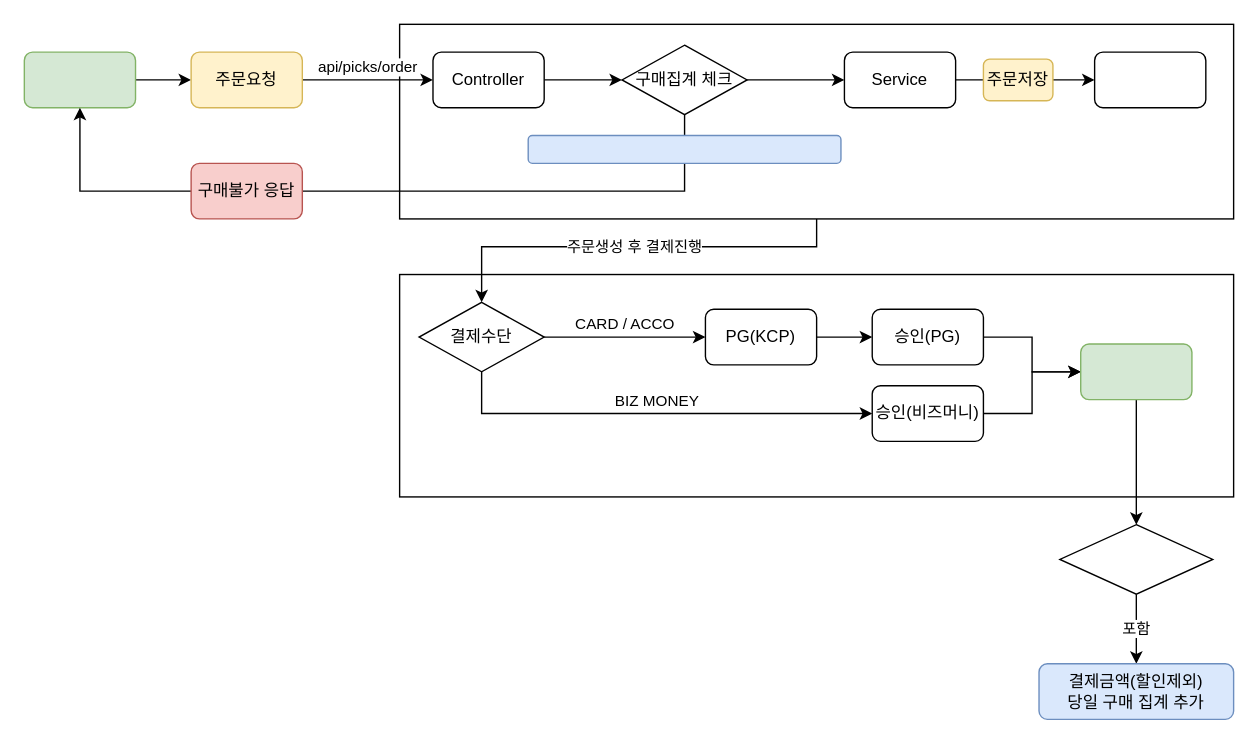
Some shapes in this 1258 by 744 pixel diagram are drawn without their labels. Here are the shapes that lost their labels. From the top down, the box of each, then its label:
(23, 51, 136, 108): 사용자
(1093, 51, 1206, 108): DAO
(527, 134, 841, 163): 일구매제한금액 < 당일 구매합계 + 주문요청금액
(1079, 343, 1192, 400): 주문완료
(1058, 523, 1213, 594): 브랜드상품
